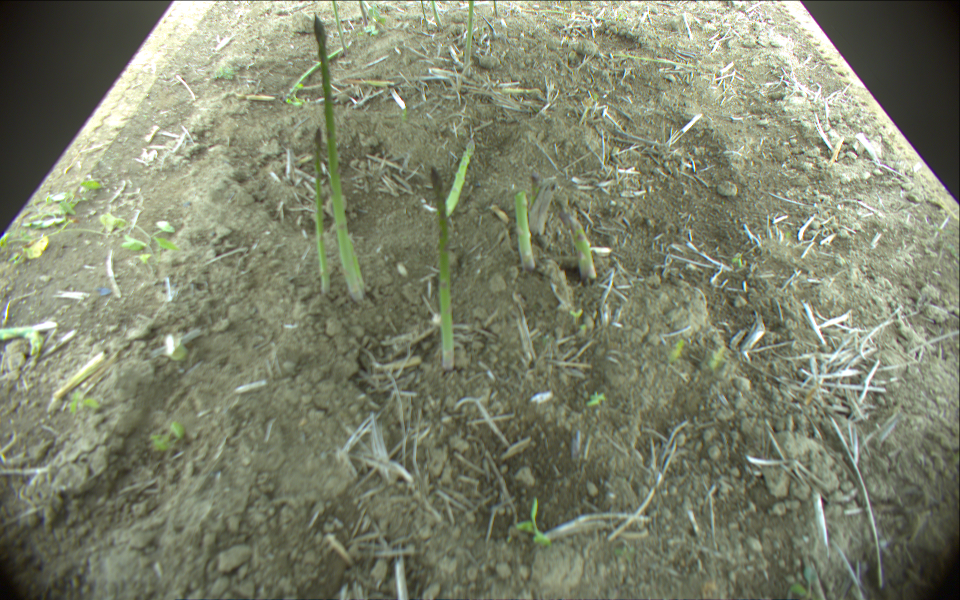aspa: (310, 11, 368, 303), (428, 169, 461, 376), (311, 129, 334, 298), (289, 43, 352, 100), (442, 134, 481, 225), (559, 209, 595, 288), (514, 189, 535, 271), (599, 52, 700, 69), (329, 1, 349, 58), (463, 1, 474, 74), (429, 1, 446, 27), (418, 1, 430, 30), (357, 1, 369, 28), (492, 1, 499, 16)
